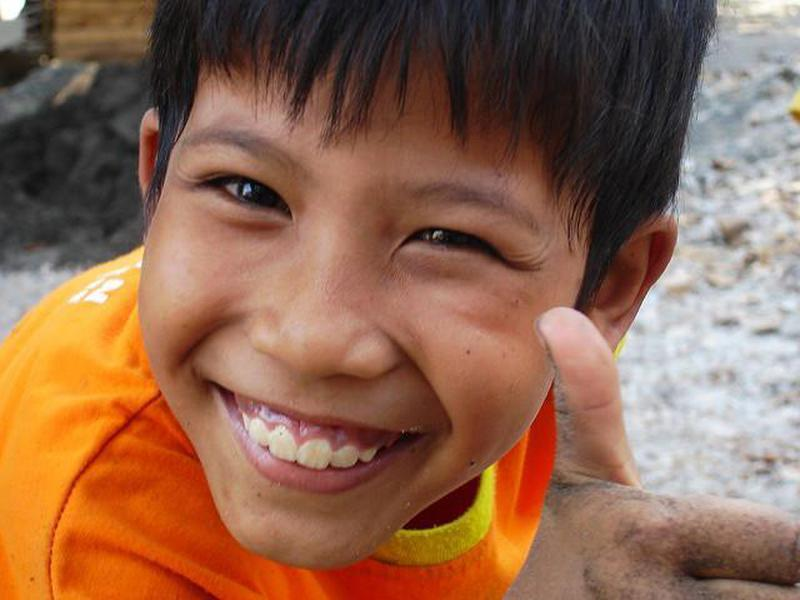person: (1, 1, 724, 600)
